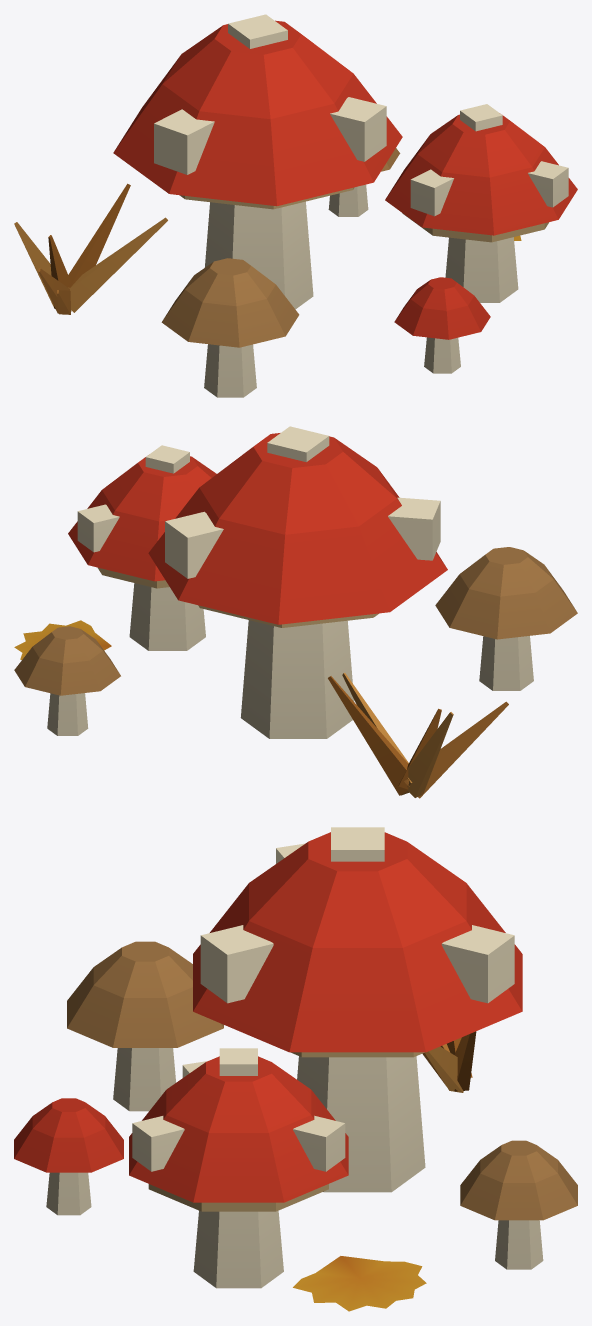
Rendered from mushrooms.glb.
3 renders of one model, top to bottom at view 1: azimuth 30°, elevation 25°; view 2: azimuth 150°, elevation 25°; view 3: azimuth 270°, elevation 25°, orthographic. The views are drawn at different scales.
Parts seen in each view (by area): view 1: mushrooms; view 2: mushrooms; view 3: mushrooms.
Boxes of the visible parts, x1=… form: mushrooms: x1=14, y1=14, x2=577, y2=397; mushrooms: x1=14, y1=426, x2=577, y2=798; mushrooms: x1=14, y1=827, x2=577, y2=1311.
Bounding box in the file's own units: 1.6 × 0.884 × 1.33.
